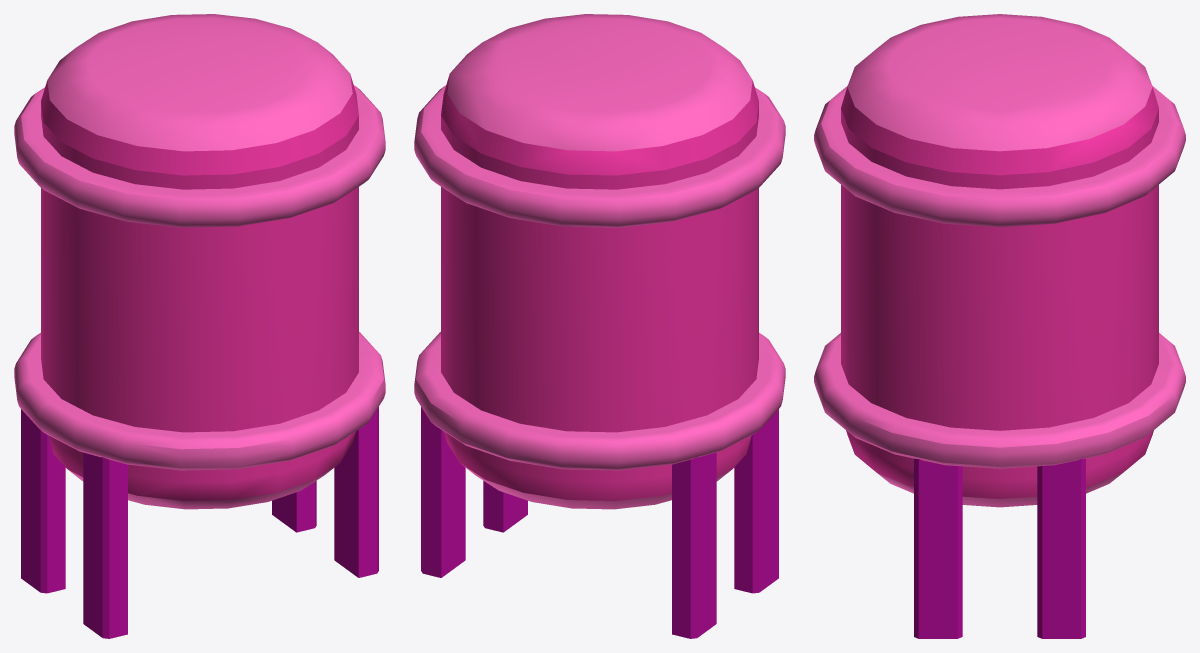
Rendered from Building_024.fbx.
3 views of the same model, side by side, from view 1: azimuth 30°, elevation 25°; view 2: azimuth 150°, elevation 25°; view 3: azimuth 270°, elevation 25° (orthographic).
Parts seen in each view (by area): view 1: Building_024; view 2: Building_024; view 3: Building_024.
Boxes of the visible parts, x1,y1,x2,y2 form: Building_024: (14, 14, 385, 638); Building_024: (414, 14, 785, 638); Building_024: (814, 14, 1185, 638).
Bounding box in the file's own units: 14.25 × 21.43 × 14.25.
